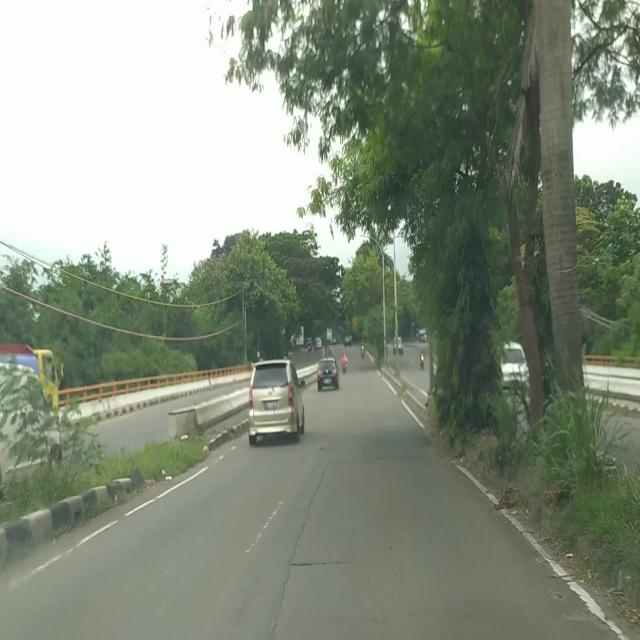Sewer Cover: (288, 561, 350, 566)
